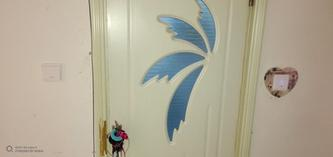switch: (277, 76, 287, 90)
